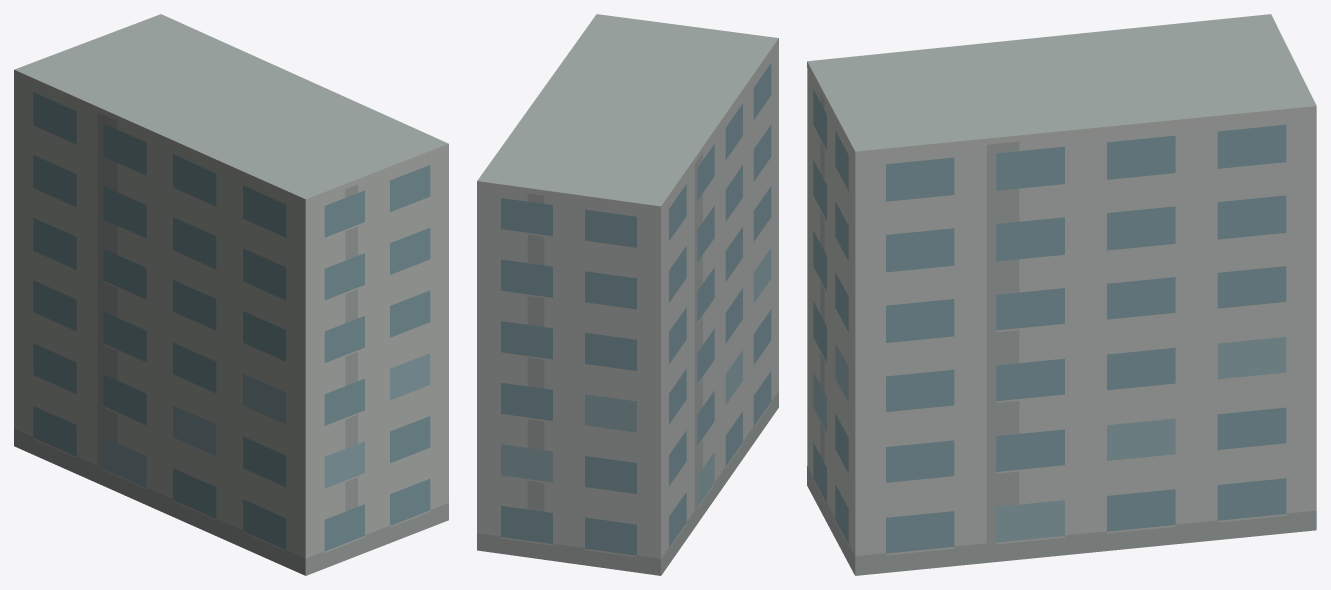
Rendered from survey-upis-32953438.glb.
3 views of the same model, side by side, from view 1: azimuth 30°, elevation 25°; view 2: azimuth 150°, elevation 25°; view 3: azimuth 270°, elevation 25° (orthographic). The views are drawn at different scales.
Parts seen in each view (by area): view 1: survey-upis-32953438.tmp; view 2: survey-upis-32953438.tmp; view 3: survey-upis-32953438.tmp.
Boxes of the visible parts, <box> form: survey-upis-32953438.tmp: <box>14,14,448,575</box>; survey-upis-32953438.tmp: <box>477,14,778,575</box>; survey-upis-32953438.tmp: <box>807,14,1316,575</box>.
Bounding box in the file's own units: 11.7 × 16.8 × 18.3.
